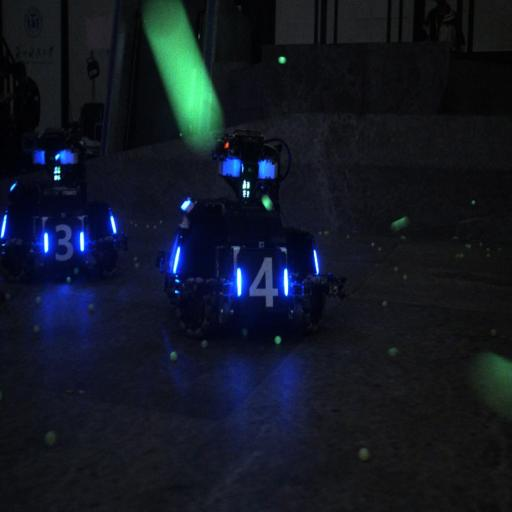target: (234, 246, 290, 320), (42, 216, 86, 270)
